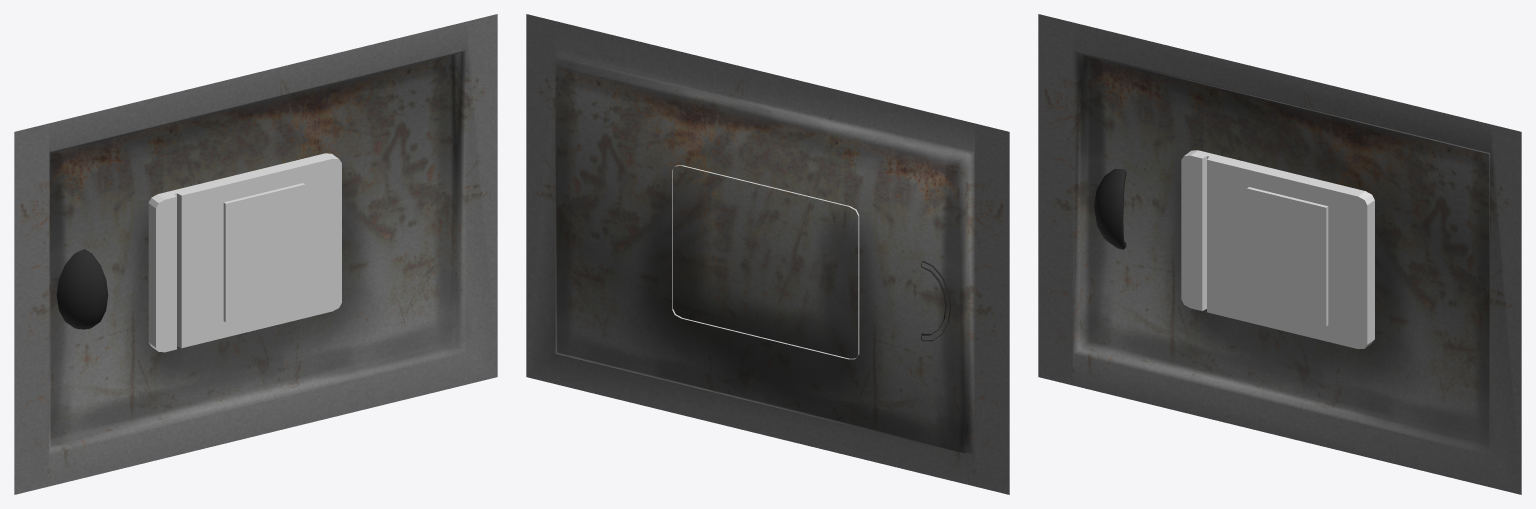
The model's file is cofre.fbx.
3 renders of one model, left to right at view 1: azimuth 30°, elevation 25°; view 2: azimuth 150°, elevation 25°; view 3: azimuth 330°, elevation 25°, orthographic.
Parts seen in each view (by area): view 1: Plane, Cube, Cube.001, Sphere; view 2: Plane, Cube; view 3: Plane, Cube, Cube.001, Sphere.
Boxes of the visible parts, <box> form: Plane: <box>14,14,497,494</box>; Cube: <box>148,153,341,352</box>; Cube.001: <box>223,183,304,322</box>; Sphere: <box>56,249,108,329</box>; Plane: <box>526,14,1009,494</box>; Cube: <box>672,165,859,359</box>; Plane: <box>1038,14,1521,494</box>; Cube: <box>1181,150,1374,349</box>; Cube.001: <box>1247,187,1328,326</box>; Sphere: <box>1094,169,1126,249</box>.
Size of the model in its own units: 112 by 80.34 by 6.78.
